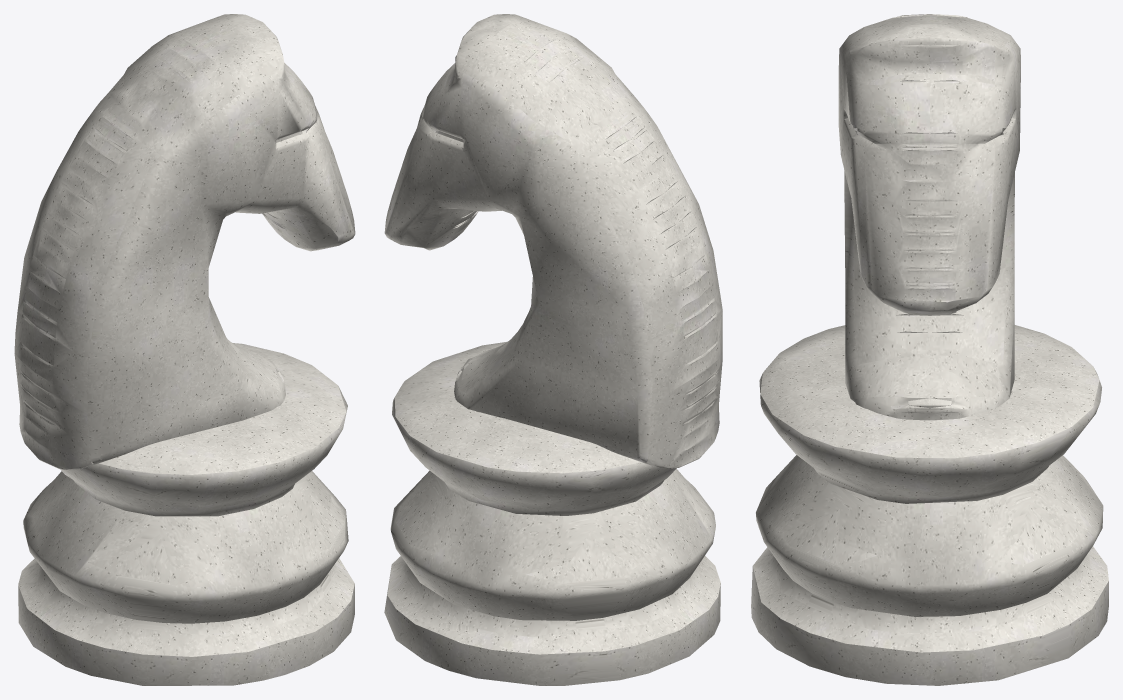
Rendered from jezdec_bila.glb.
3 views of the same model, side by side, from view 1: azimuth 30°, elevation 25°; view 2: azimuth 150°, elevation 25°; view 3: azimuth 270°, elevation 25° (orthographic). The views are drawn at different scales.
Visible parts, largest first — view 1: jezdec_bila; view 2: jezdec_bila; view 3: jezdec_bila.
Boxes of the visible parts, x1,y1,x2,y2 form: jezdec_bila: [14, 14, 355, 685]; jezdec_bila: [384, 14, 722, 685]; jezdec_bila: [751, 14, 1108, 685].
Size of the model in its own units: 0.0368 by 0.0664 by 0.0345.
Materials: 1 (1 with a texture image).
